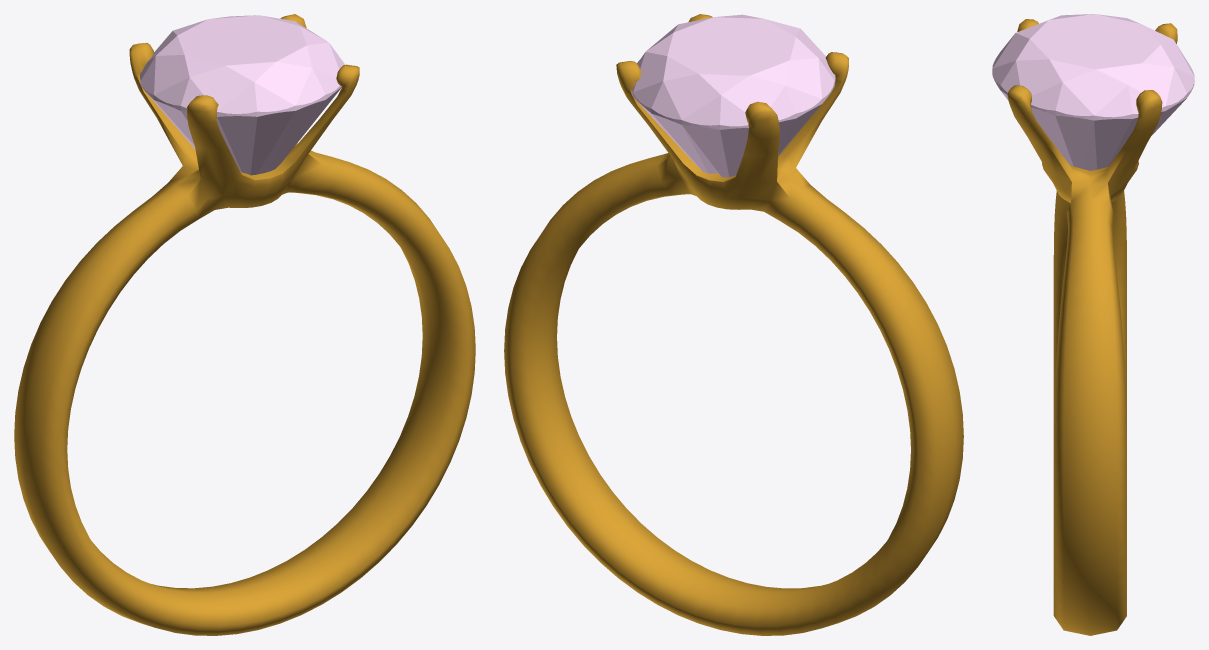
Rendered from Ring.fbx.
The picture shows the model from 3 angles, left to right: view 1: azimuth 30°, elevation 25°; view 2: azimuth 150°, elevation 25°; view 3: azimuth 270°, elevation 25°; orthographic projection. The views are drawn at different scales.
Parts seen in each view (by area): view 1: Ring; view 2: Ring; view 3: Ring.
Boxes of the visible parts, box(x1,y1,x2,y2) form: Ring: box(14, 14, 475, 635); Ring: box(504, 14, 963, 635); Ring: box(992, 14, 1194, 635).
Bounding box in the file's own units: 1.54 × 1.95 × 0.6227.
